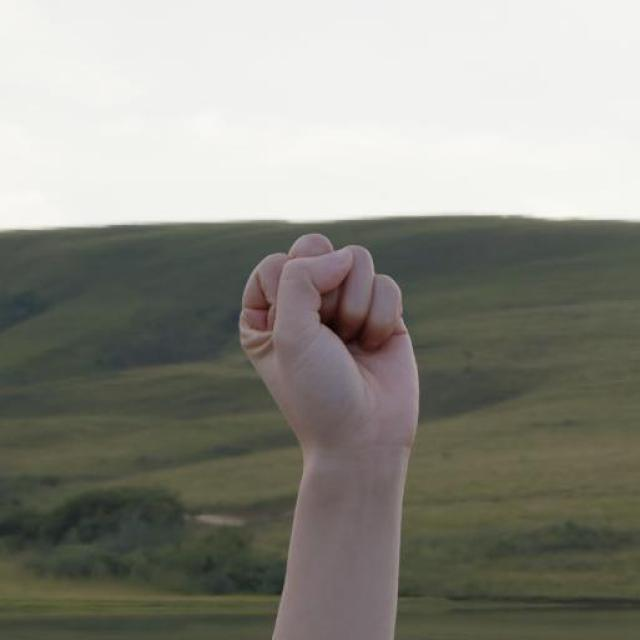S: (233, 229, 426, 456)
